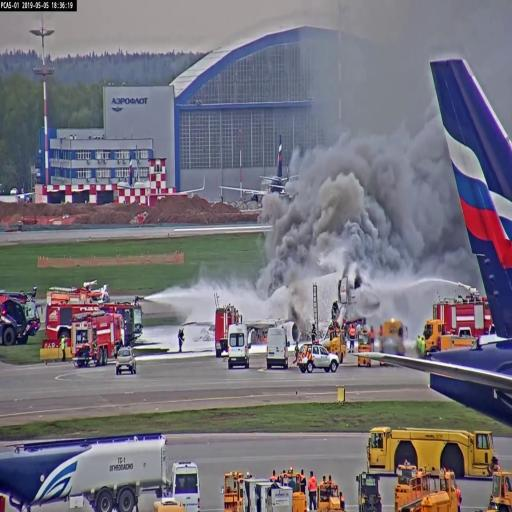smoke: (298, 153, 413, 281)
